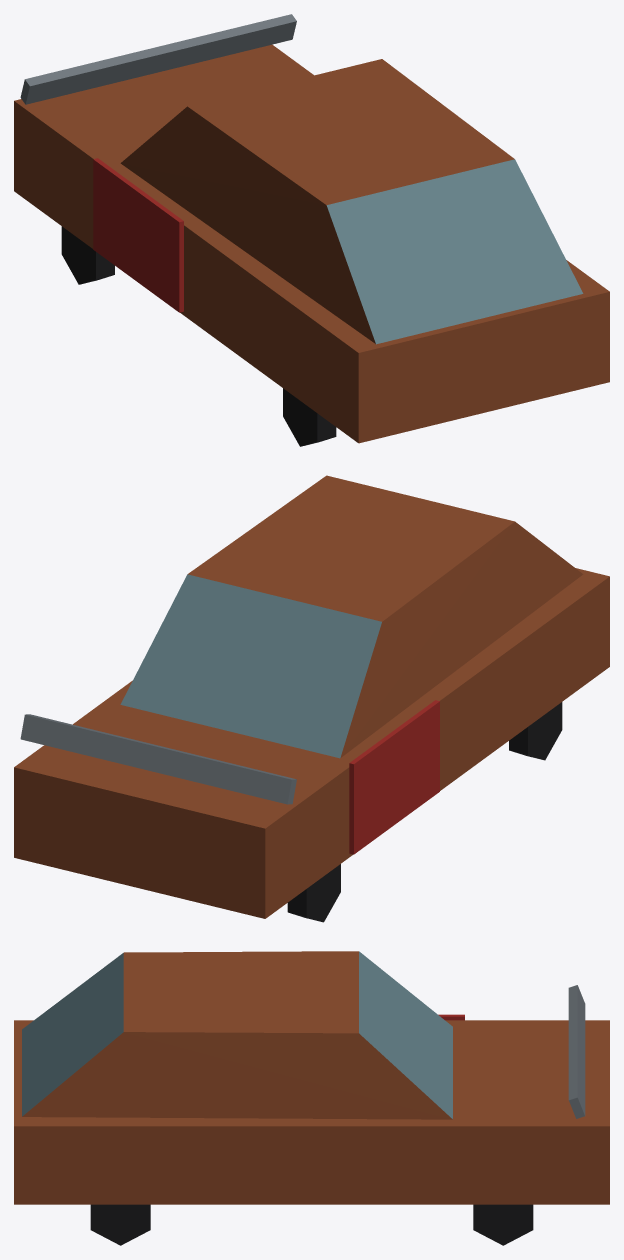
File: car_wreck.glb
3 views of the same model, one above another, from view 1: azimuth 30°, elevation 25°; view 2: azimuth 150°, elevation 25°; view 3: azimuth 270°, elevation 25° (orthographic). The views are drawn at different scales.
Visible parts, largest first — view 1: car_wreck; view 2: car_wreck; view 3: car_wreck.
Boxes of the visible parts, bbox=[...] form: car_wreck: bbox=[14, 14, 609, 446]; car_wreck: bbox=[14, 475, 609, 922]; car_wreck: bbox=[14, 951, 609, 1245].
Size of what is drawn, in the model's own units: 1.7 by 1.42 by 3.8.
Materials: 2 (2 with a texture image).
